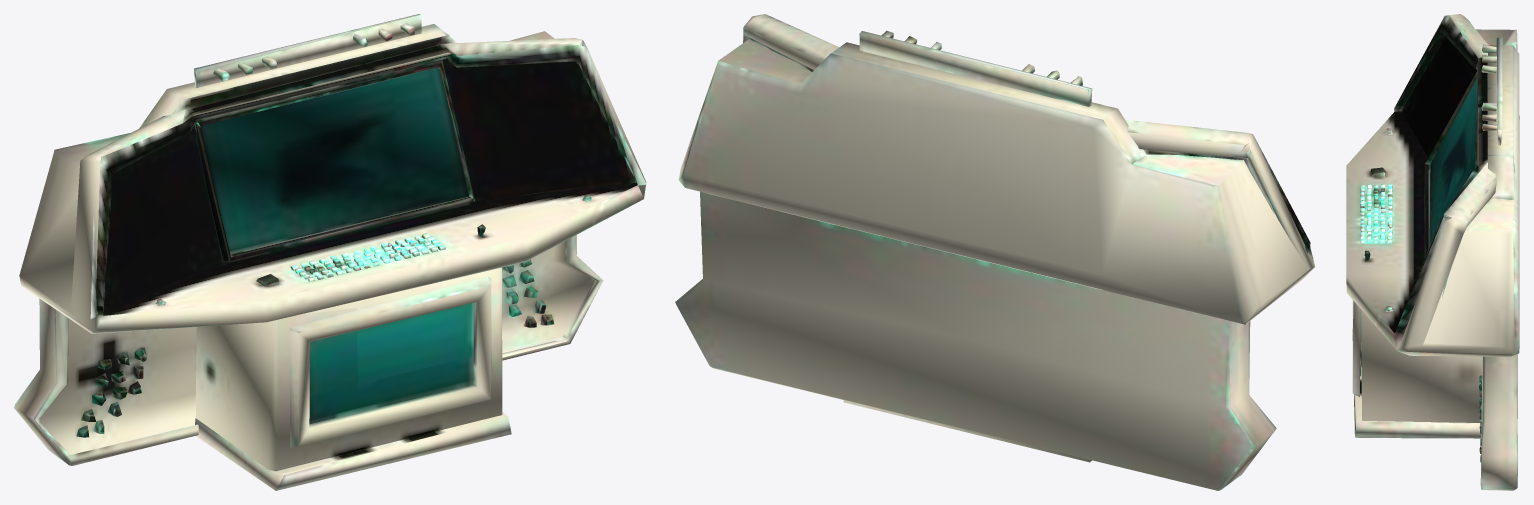
Rendered from console.lod1.glb.
3 views of the same model, side by side, from view 1: azimuth 30°, elevation 25°; view 2: azimuth 150°, elevation 25°; view 3: azimuth 270°, elevation 25° (orthographic). The views are drawn at different scales.
Bounding box in the file's own units: 1.82 × 1.1 × 0.566.
Materials: 1 (1 with a texture image).
